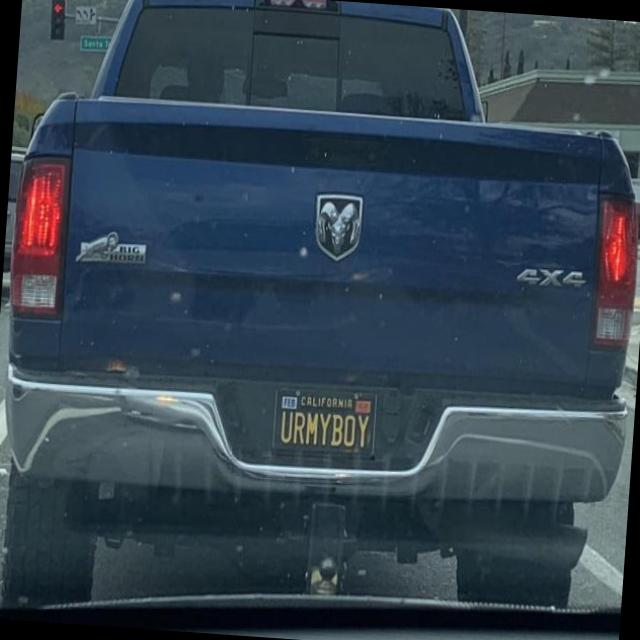LicensePlate: (270, 383, 378, 460)
